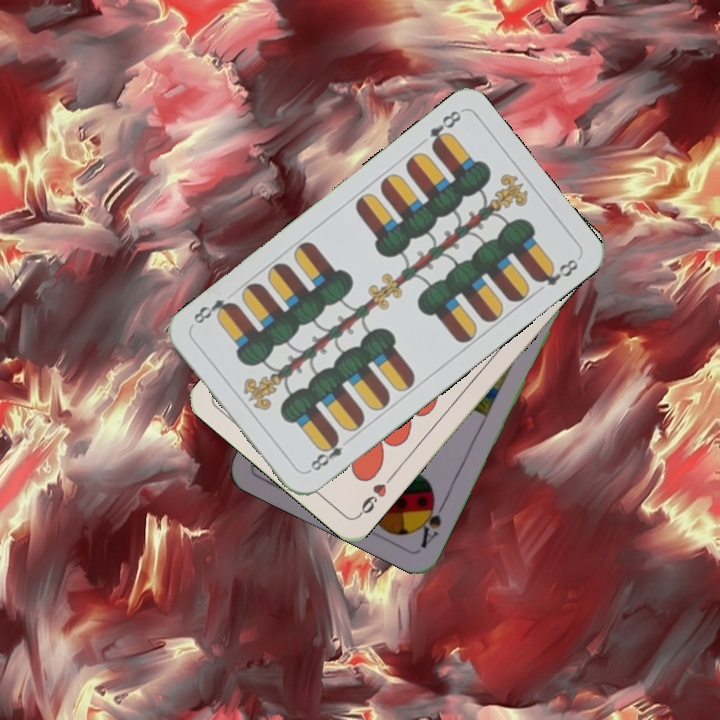E8: (304, 431, 346, 475), (425, 106, 464, 153)
H9: (354, 470, 397, 520)
SA: (413, 491, 450, 551)
